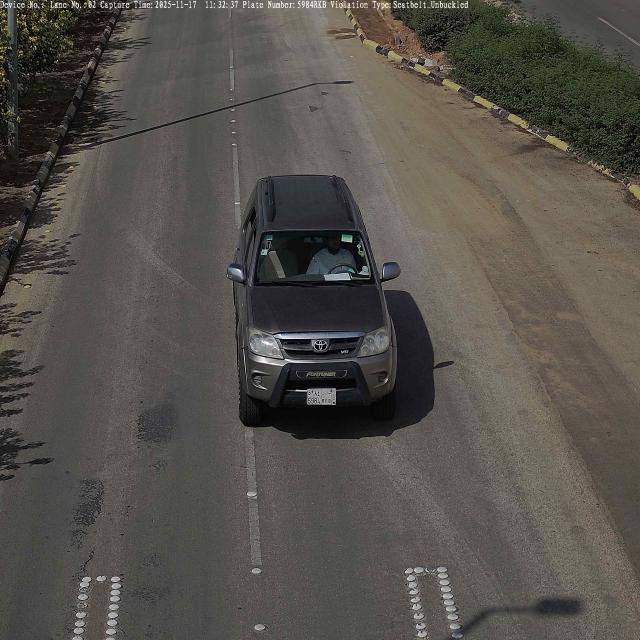person_without_seatbelt: (310, 232, 359, 281)
